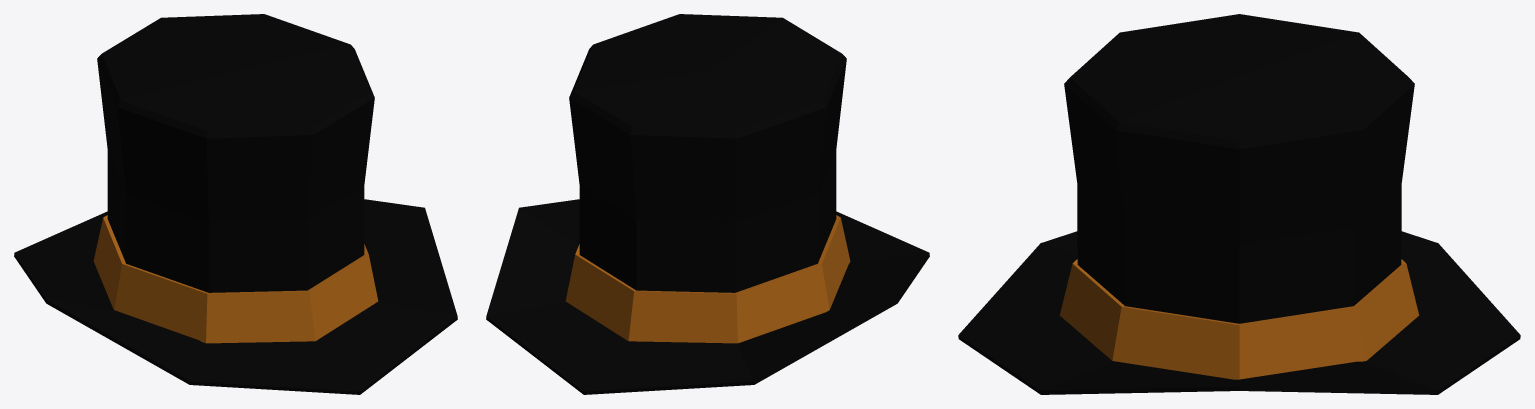
Rendered from TopHat.fbx.
3 views of the same model, side by side, from view 1: azimuth 30°, elevation 25°; view 2: azimuth 150°, elevation 25°; view 3: azimuth 270°, elevation 25° (orthographic). The views are drawn at different scales.
Visible parts, largest first — view 1: top hat; view 2: top hat; view 3: top hat.
Part boxes in pixels (x1=…): top hat: x1=14, y1=14, x2=457, y2=394; top hat: x1=486, y1=14, x2=929, y2=394; top hat: x1=958, y1=14, x2=1520, y2=394.
Bounding box in the file's own units: 326 × 191 × 370.
